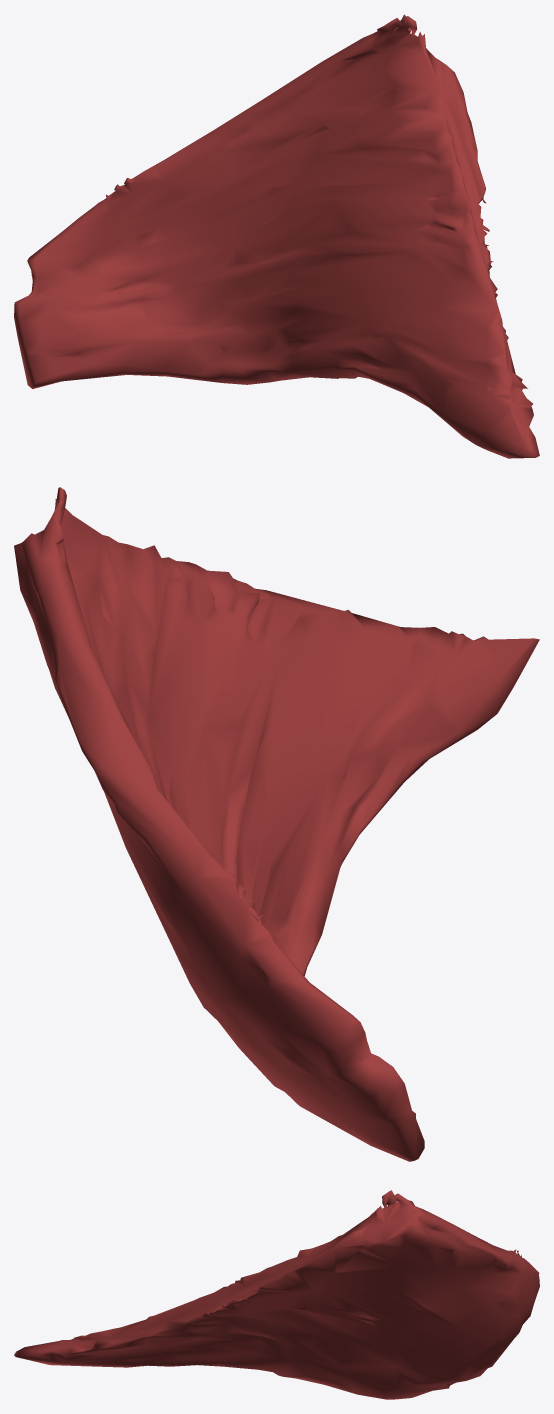
Rendered from iliococcygeus-muscle-l.glb.
The picture shows the model from 3 angles, top to bottom: view 1: azimuth 30°, elevation 25°; view 2: azimuth 150°, elevation 25°; view 3: azimuth 270°, elevation 25°; orthographic projection. The views are drawn at different scales.
Visible parts, largest first — view 1: Iliococcygeus muscle.l; view 2: Iliococcygeus muscle.l; view 3: Iliococcygeus muscle.l.
Boxes of the visible parts, x1=… form: Iliococcygeus muscle.l: x1=14, y1=14, x2=539, y2=458; Iliococcygeus muscle.l: x1=14, y1=487, x2=539, y2=1161; Iliococcygeus muscle.l: x1=14, y1=1190, x2=539, y2=1399.
Bounding box in the file's own units: 0.0459 × 0.0447 × 0.0757.
